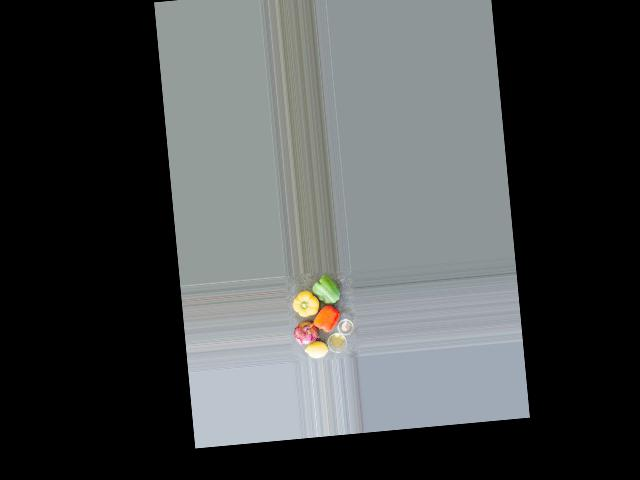bell_pepper: (311, 304, 342, 333)
